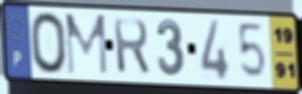3: (155, 17, 186, 80)
4: (198, 18, 231, 83)
5: (235, 21, 269, 82)
M: (63, 12, 110, 77)
O: (28, 10, 70, 77)
R: (111, 17, 152, 77)
